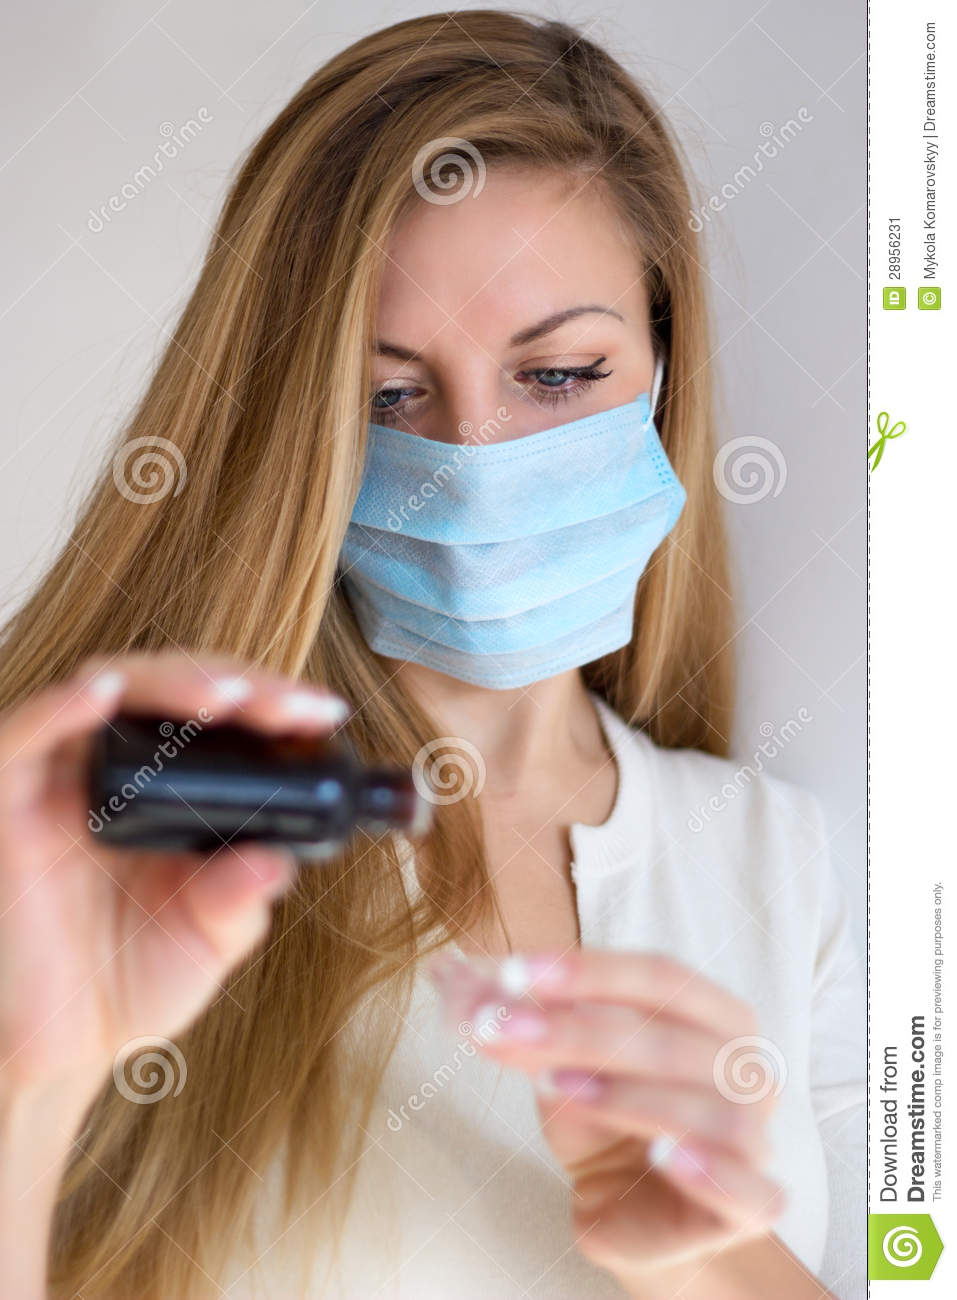mask: (345, 389, 676, 691)
